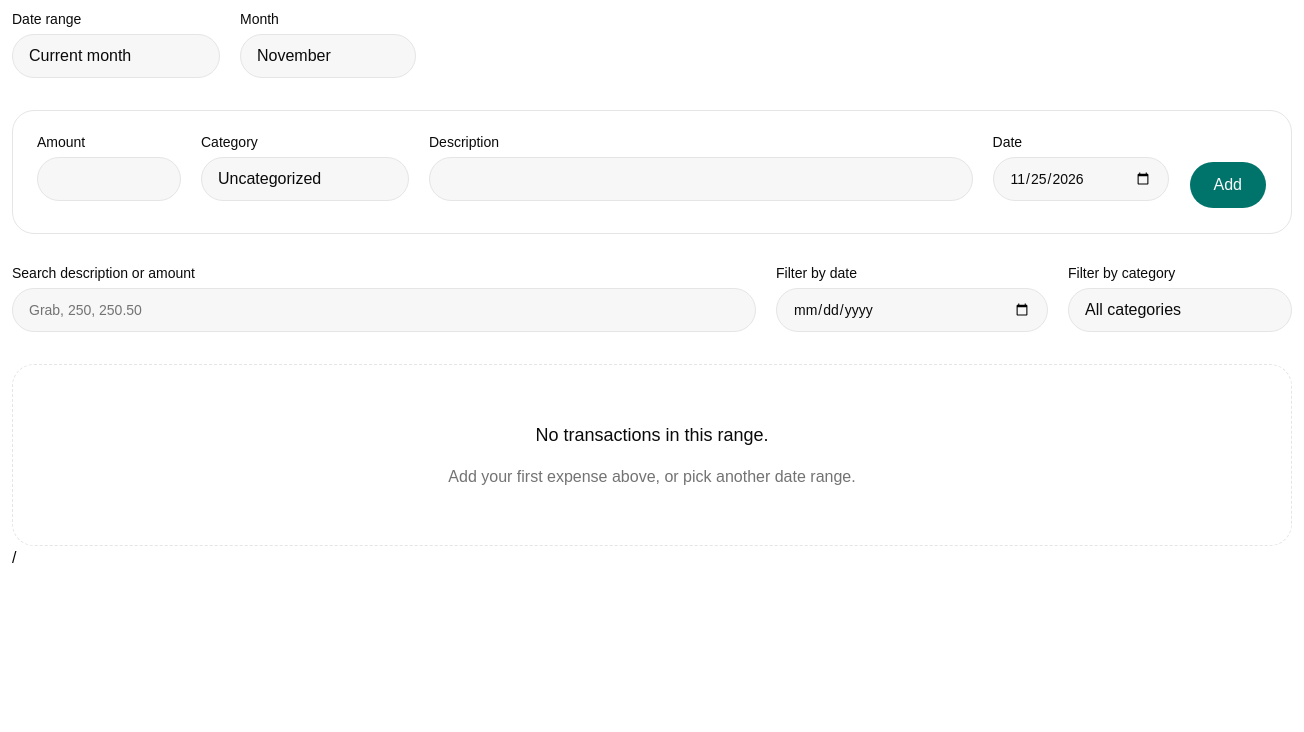
Test case: quick add › category is a real select listing every category, with Uncategorized as the default
This screenshot has width=1304, height=732.
Expected: the text "No transactions in this range." is shown, [535,421,768,449]
Click the dropdown named "Category": coordinates (305, 179) [201,157,409,201]
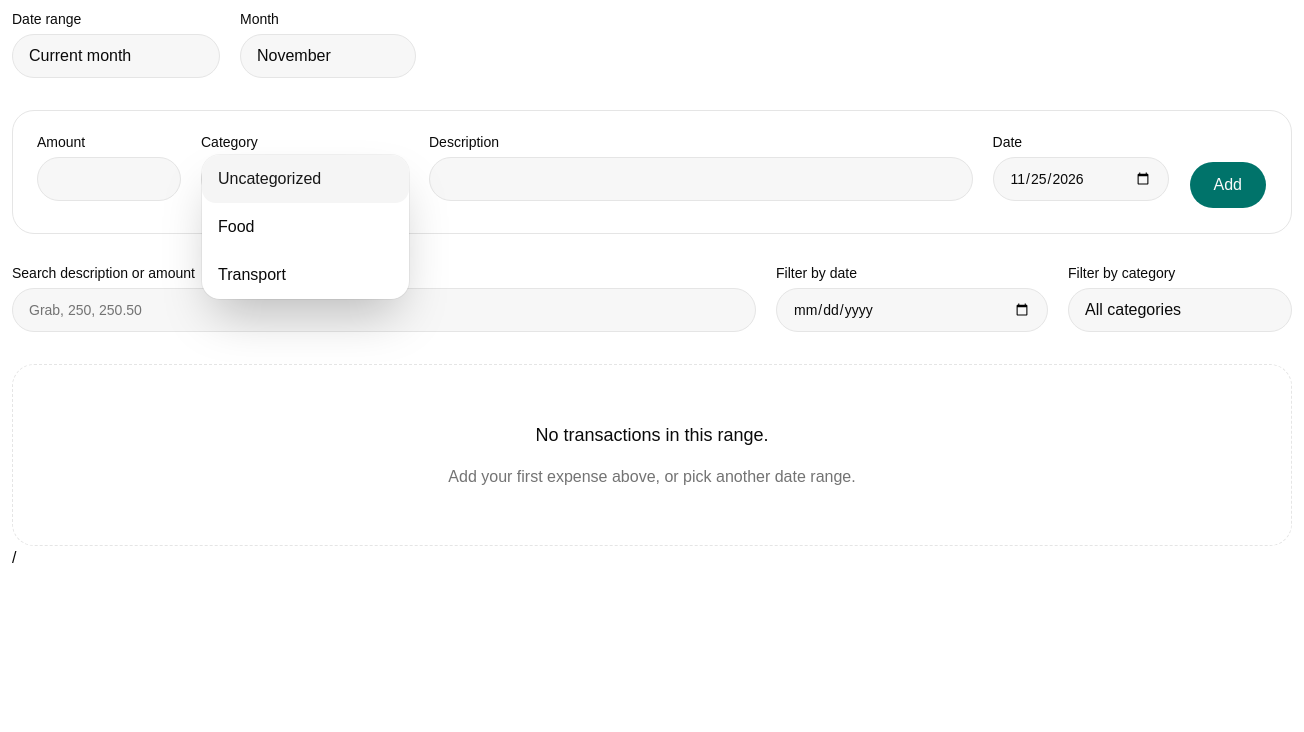
Expected: the options read "Uncategorized", "Food", "Transport", in this order, [202,155,409,203]; [218,218,254,235]; [218,266,286,283]
